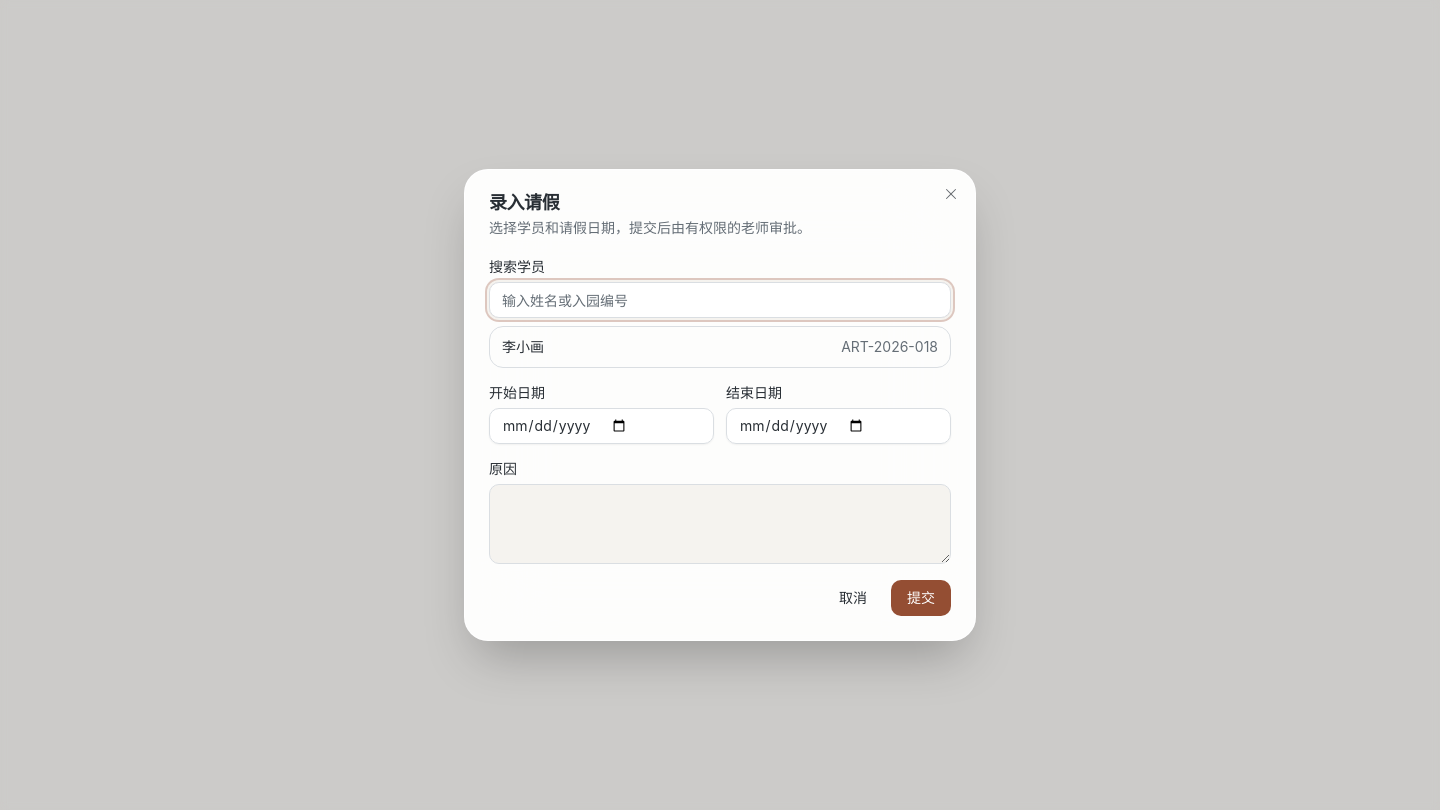
Test: LeaveRequestFormDialog › requires choosing a search result before submission
Type "李小画" into the field labelled "搜索学员" at (720, 300), box [489, 282, 951, 318]
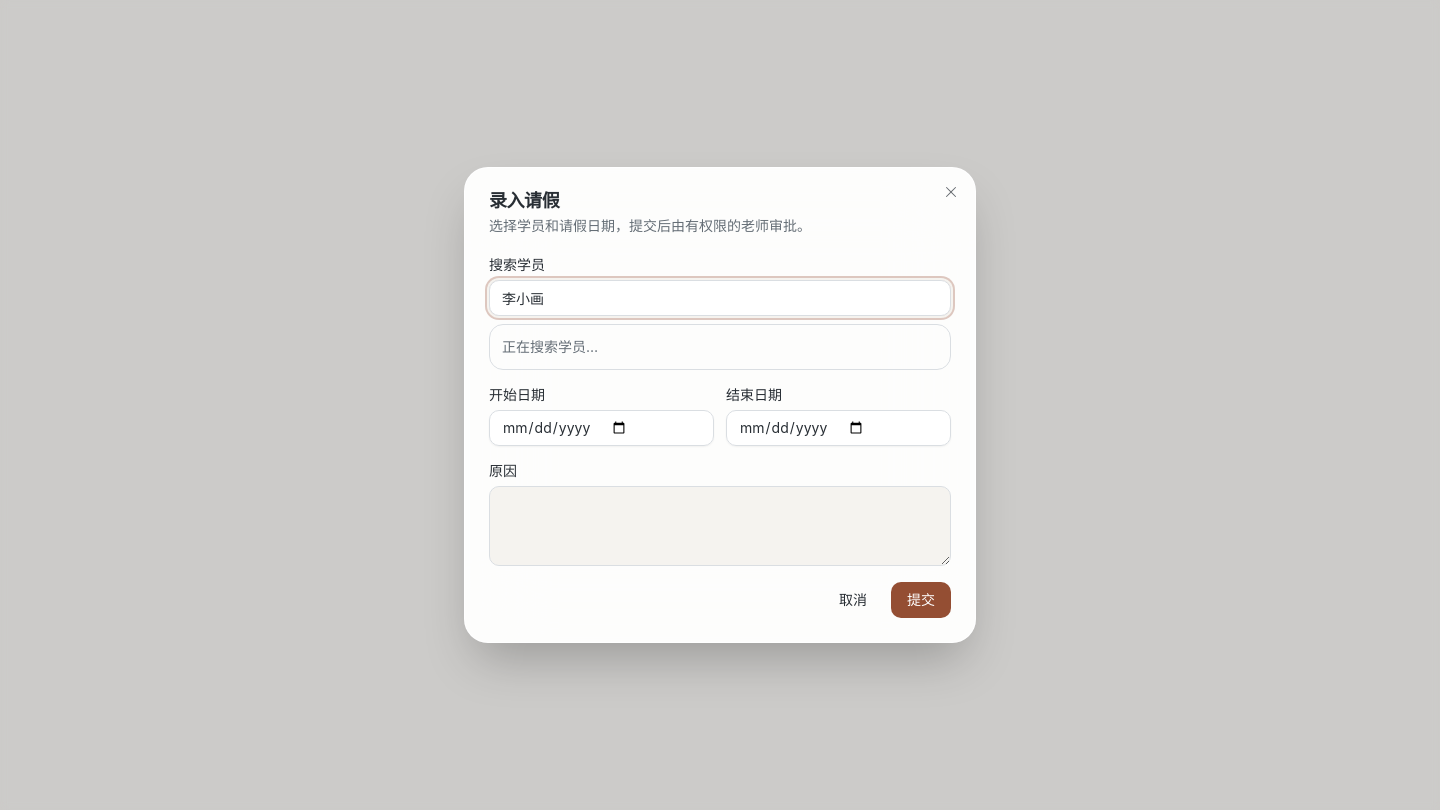
Type "2026-09-08" into the date field labelled "开始日期" at (602, 428), box [489, 410, 714, 446]
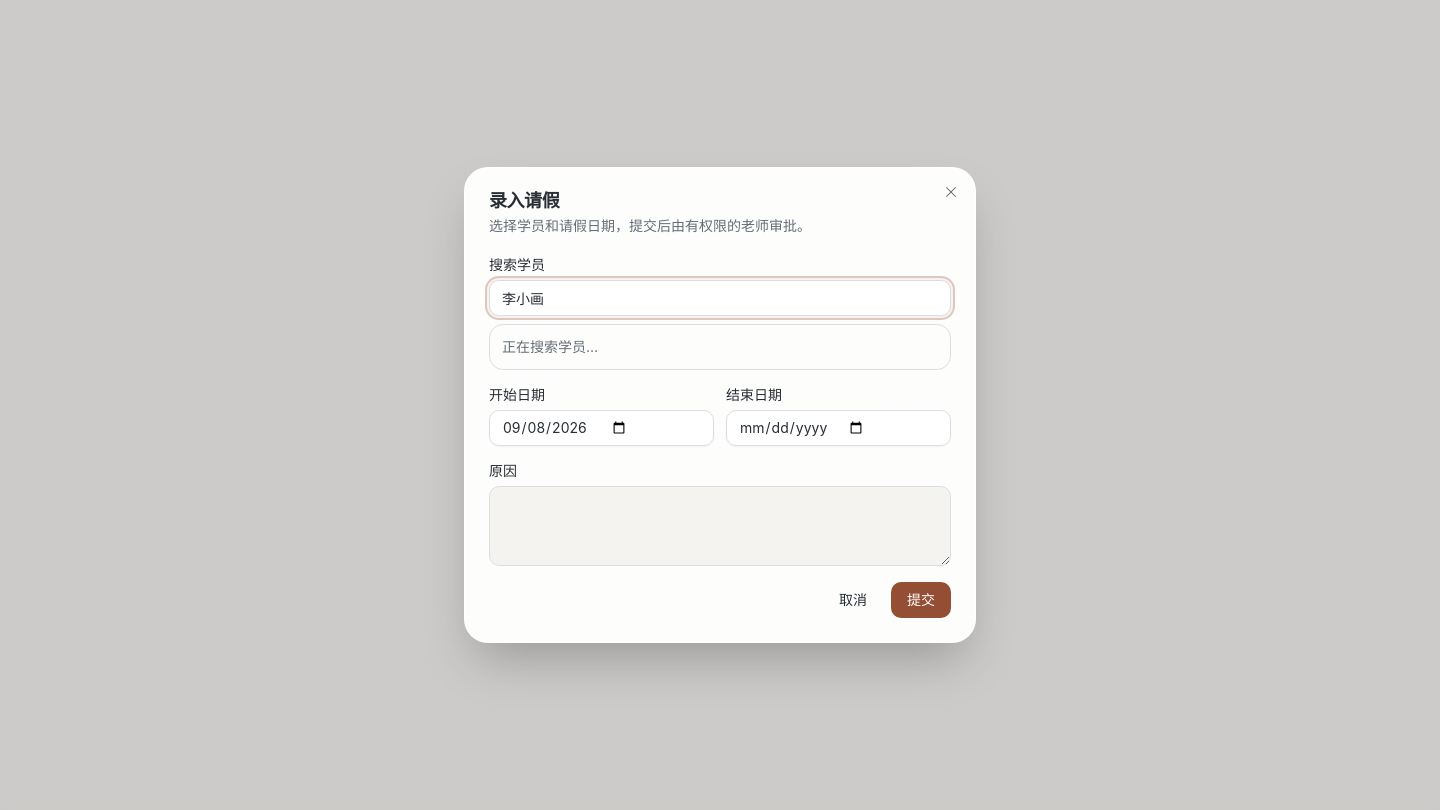
Type "2026-09-08" into the date field labelled "结束日期" at (838, 428), box [726, 410, 951, 446]
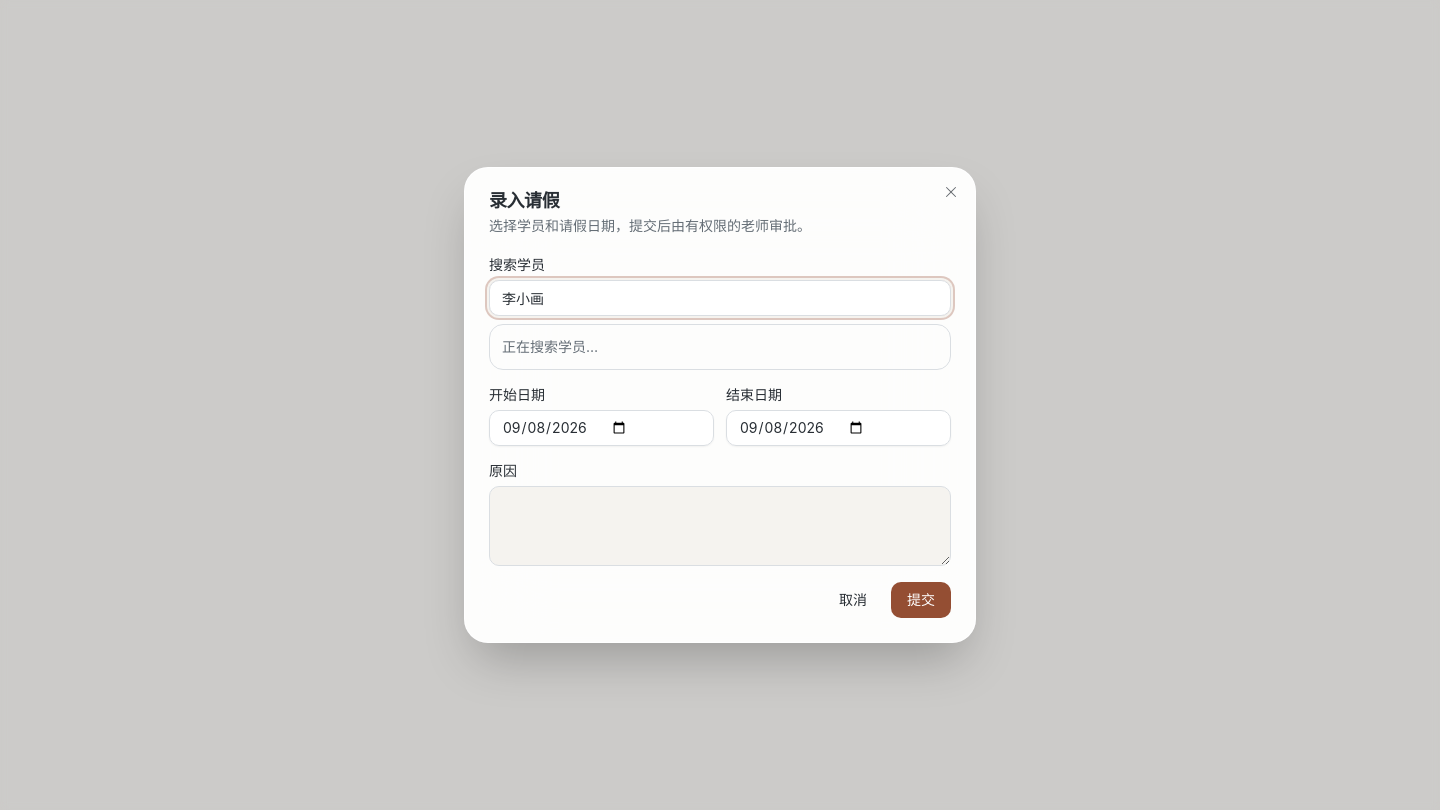
Click the button "提交" at (921, 600), box [891, 582, 951, 618]
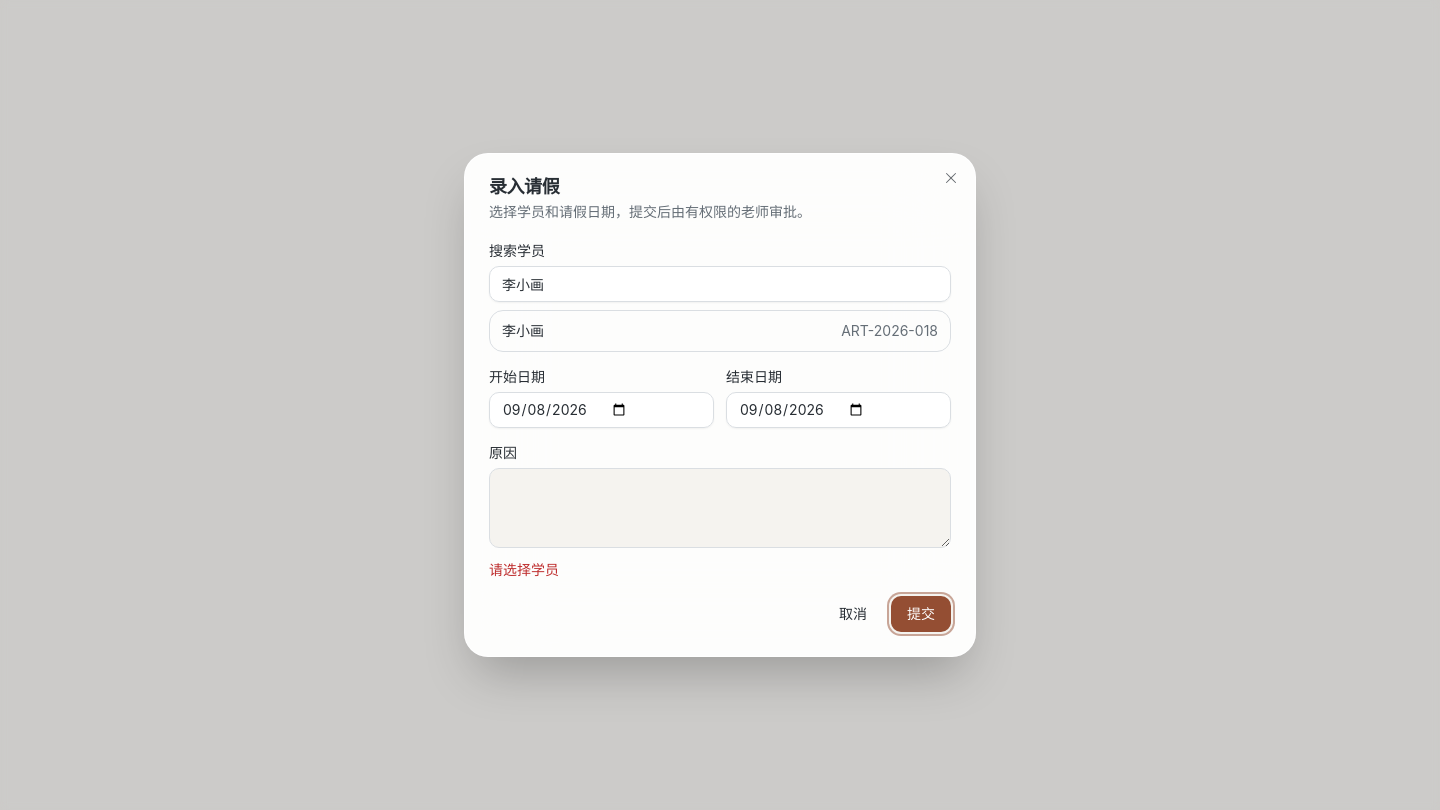
Result: the message reads "请选择学员" at [489, 561, 559, 578]
